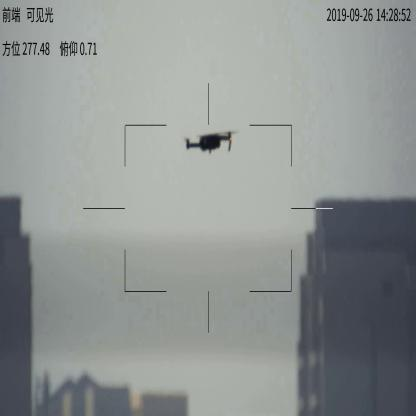uav: (178, 127, 243, 154)
